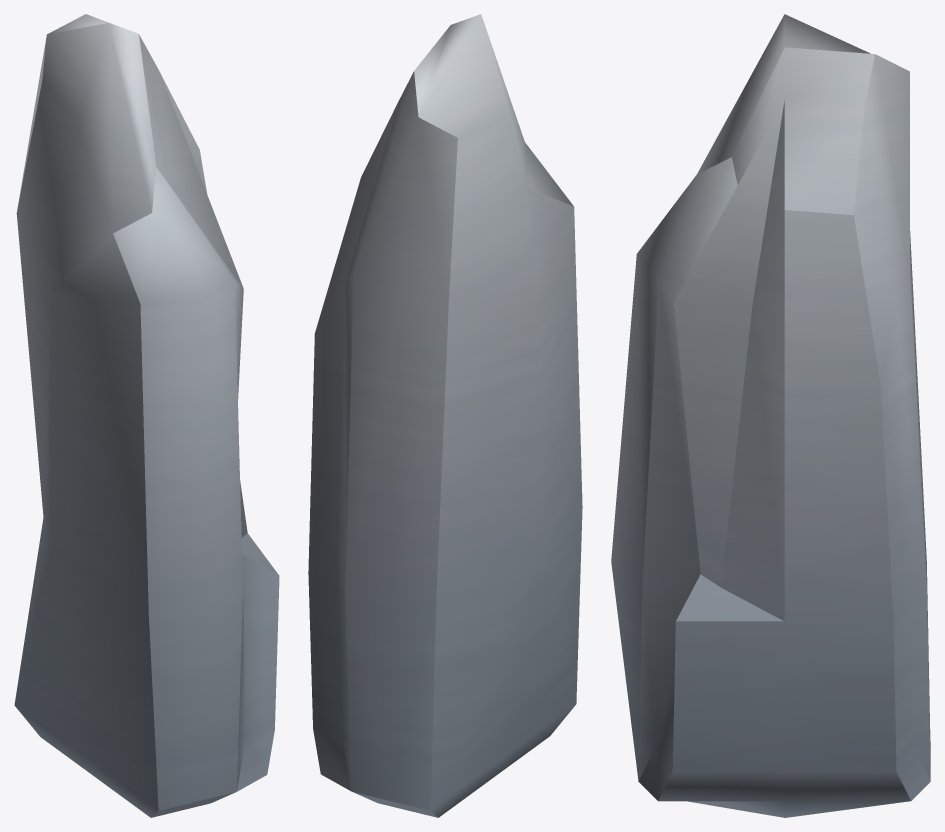
File: StoneSlab4.fbx
3 views of the same model, side by side, from view 1: azimuth 30°, elevation 25°; view 2: azimuth 150°, elevation 25°; view 3: azimuth 270°, elevation 25° (orthographic).
Parts seen in each view (by area): view 1: pCube15; view 2: pCube15; view 3: pCube15.
Boxes of the visible parts, x1,y1,x2,y2 form: pCube15: (14, 14, 279, 817); pCube15: (308, 14, 582, 817); pCube15: (611, 14, 930, 817).
Bounding box in the file's own units: 1.91 × 7.86 × 2.99.
